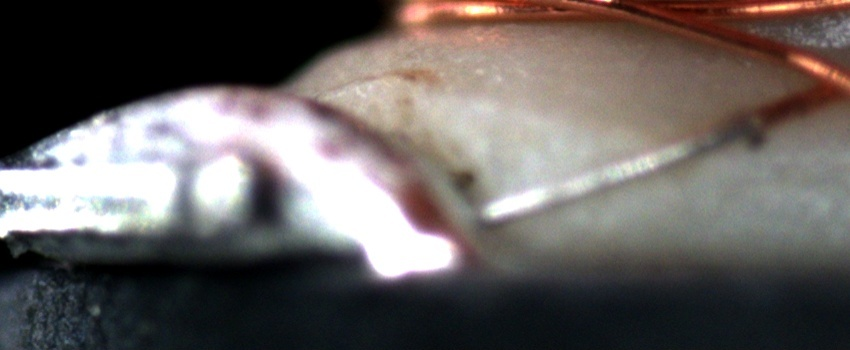TS: (479, 112, 761, 228)
